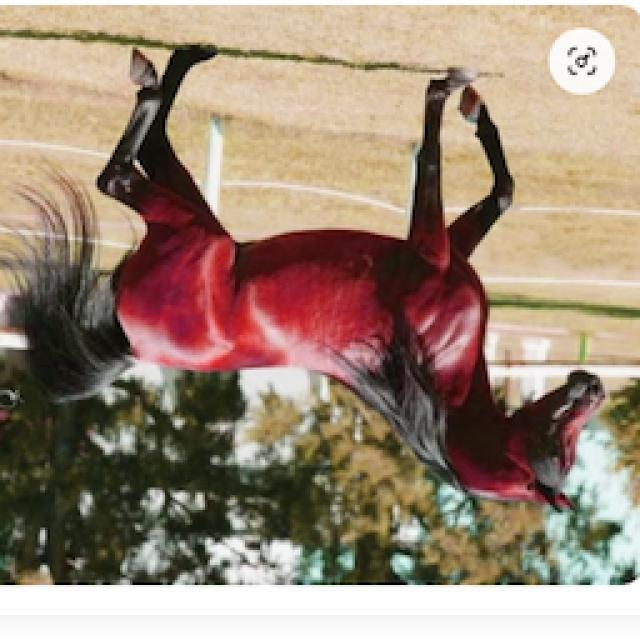Horse: (0, 43, 612, 520)
